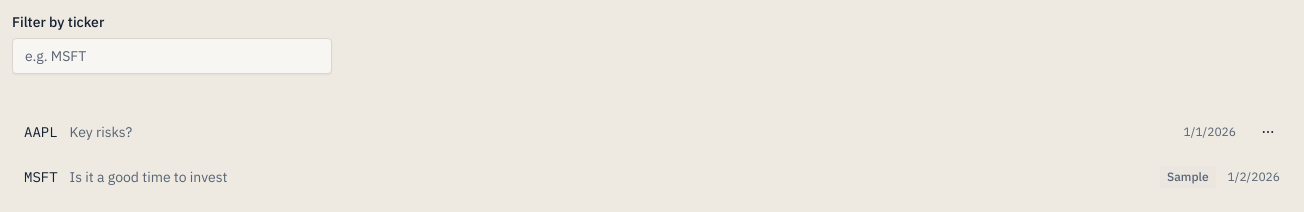
LibraryList › per-row actions menu (CR-SCOPE-004) › has no detectable accessibility violations with the menu open
The width and height of the screenshot is (1304, 212).
Step 1. Click the button named "TBD-user: actions for AAPL — Key risks? (1/1/2026)" → [1268, 132], box [1252, 118, 1284, 146]
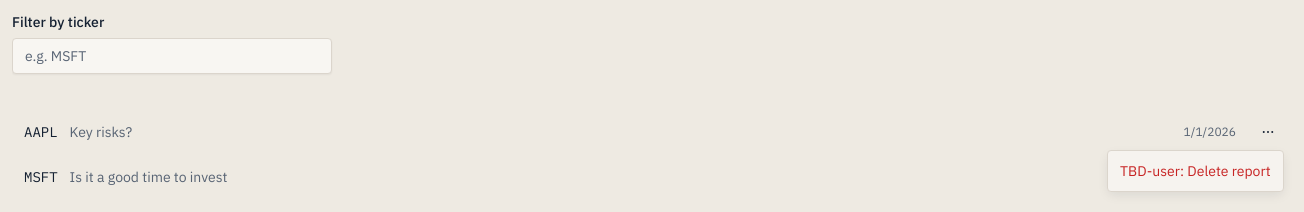
Expected: the menu item "TBD-user: Delete report" is shown, [1120, 162, 1271, 180]
